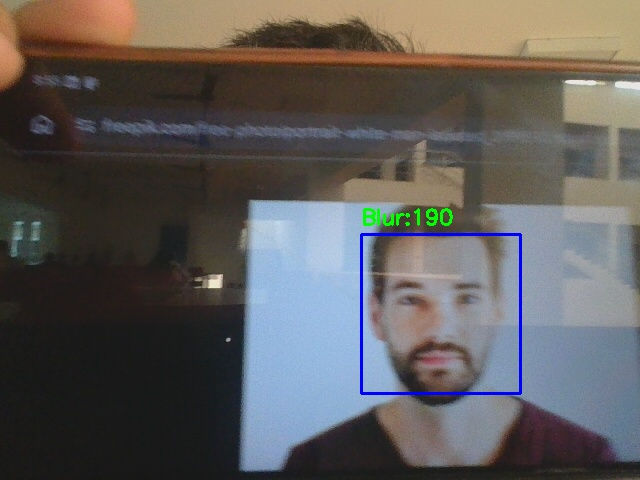fake: (361, 234, 520, 393)
